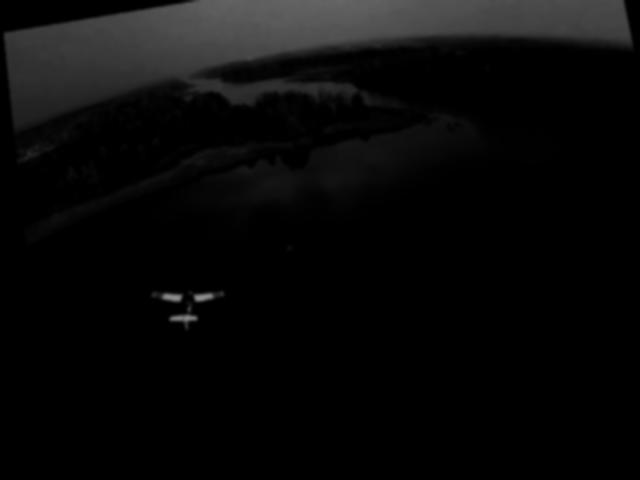hedef: (136, 274, 233, 346)
